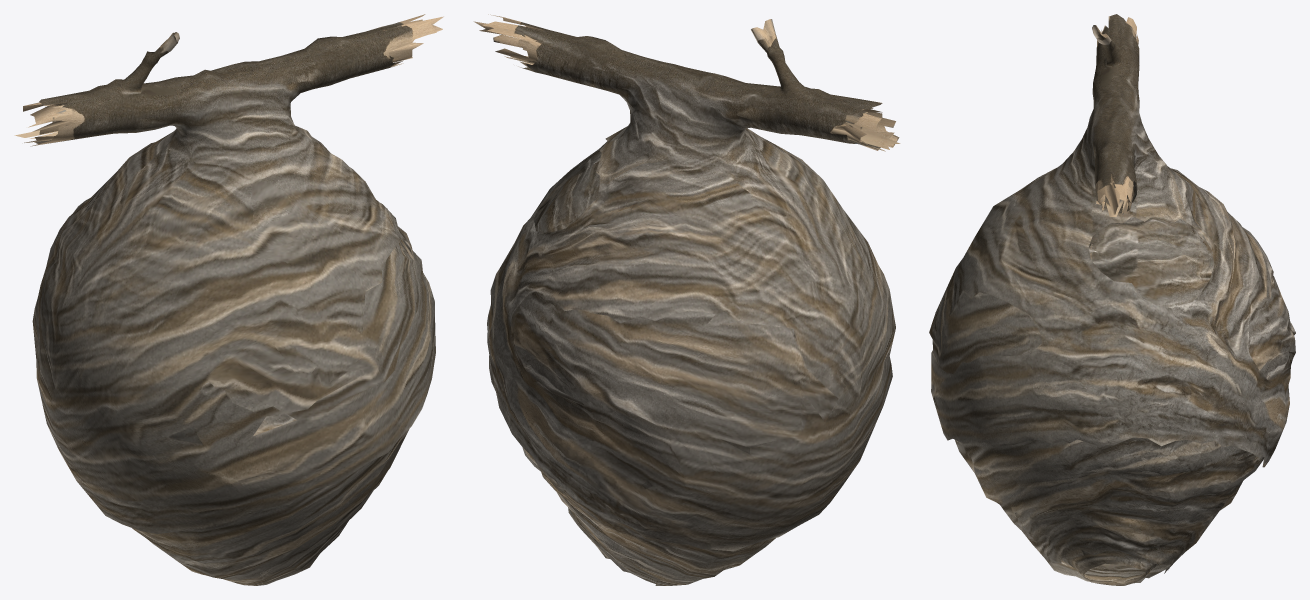
File: wasp_nest_t2.glb
3 renders of one model, left to right at view 1: azimuth 30°, elevation 25°; view 2: azimuth 150°, elevation 25°; view 3: azimuth 270°, elevation 25°, orthographic. The views are drawn at different scales.
Bounding box in the file's own units: 0.7378 × 0.9517 × 0.6069.
Materials: 1 (1 with a texture image).
